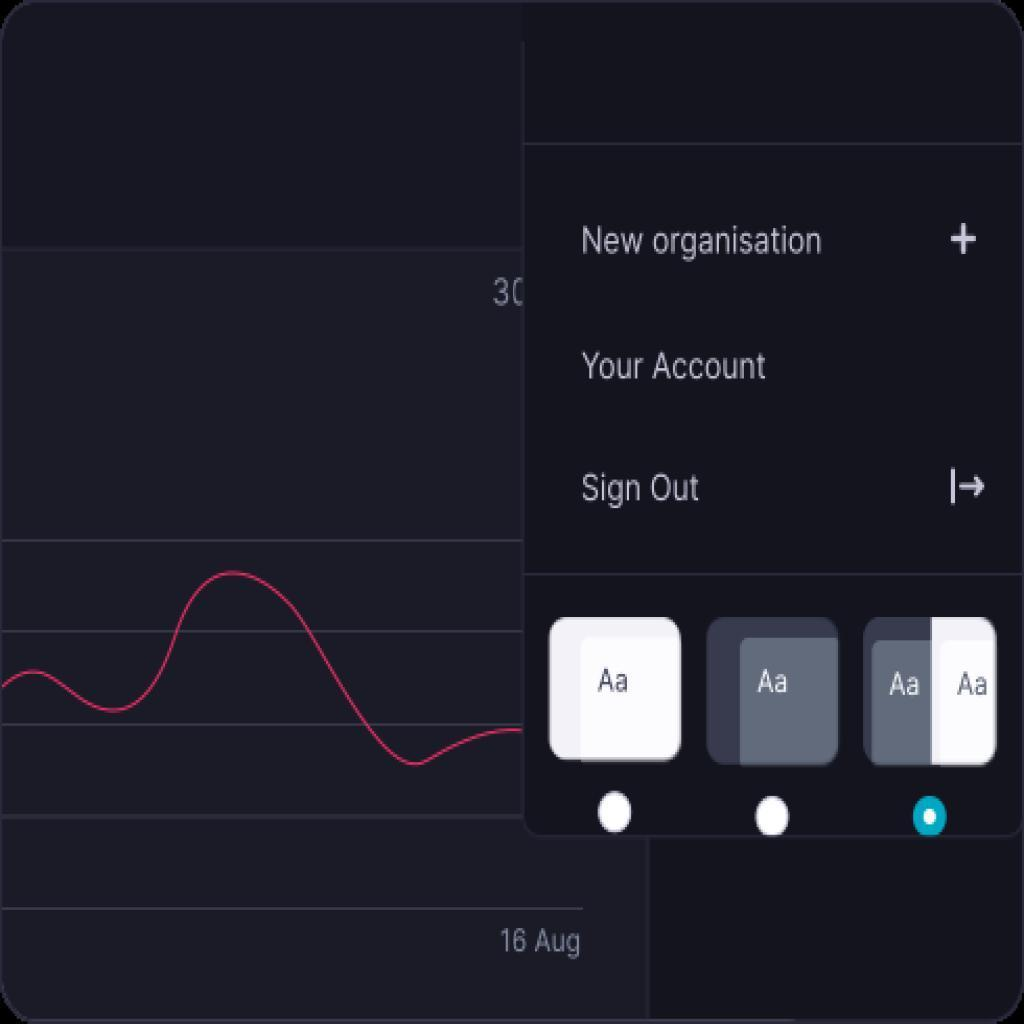icon: (943, 457, 994, 513), (942, 216, 990, 263)
radio: (755, 795, 790, 843), (598, 788, 635, 833), (913, 794, 949, 839)
